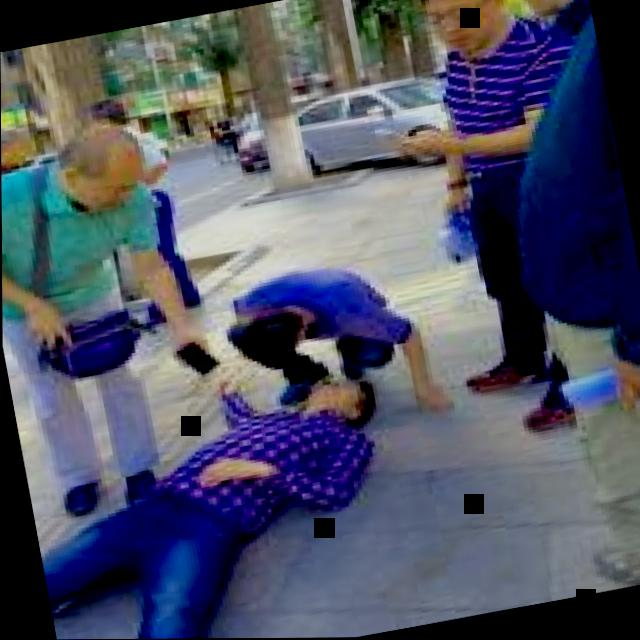Fall-Detected: (11, 335, 431, 640)
